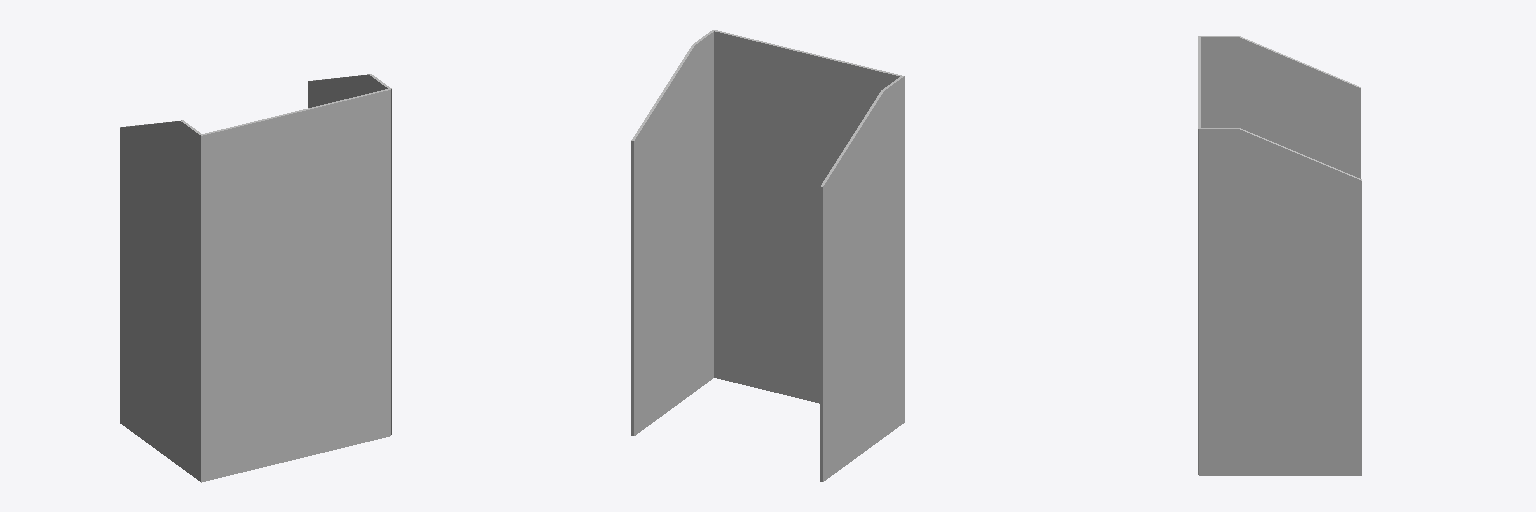
Rendered from felt-lectern-external.obj.
3 views of the same model, side by side, from view 1: azimuth 30°, elevation 25°; view 2: azimuth 150°, elevation 25°; view 3: azimuth 270°, elevation 25° (orthographic).
Visible parts, largest first — view 1: Felt_Panel_front.006_Cube.005; view 2: Felt_Panel_front.006_Cube.005; view 3: Felt_Panel_front.006_Cube.005.
Boxes of the visible parts, box(x1,y1,x2,y2) form: Felt_Panel_front.006_Cube.005: box(120, 74, 391, 482); Felt_Panel_front.006_Cube.005: box(631, 30, 904, 481); Felt_Panel_front.006_Cube.005: box(1198, 36, 1361, 475).
Bounding box in the file's own units: 0.6906 × 1.19 × 0.5109.